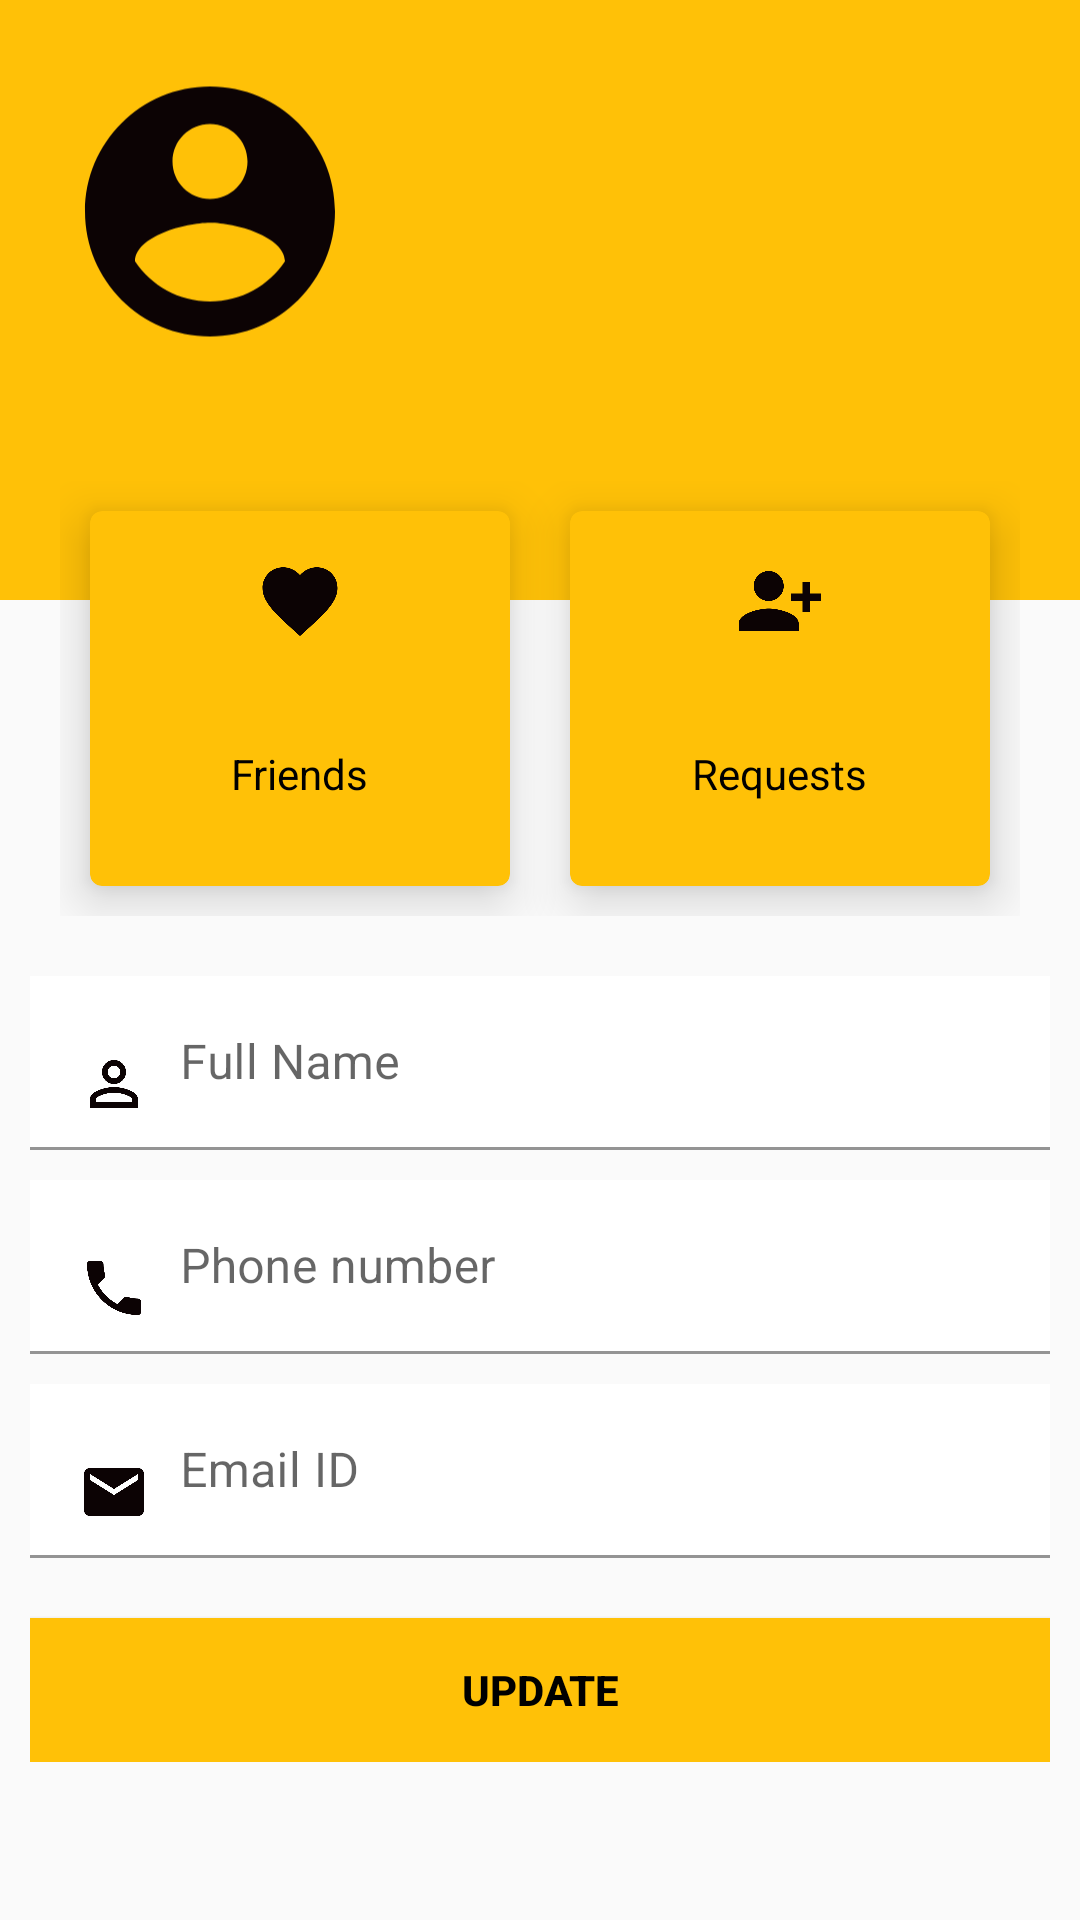

Named icons in this screenshot (1080w x 1920h) and their centers, (x,y):
account circle: (210,211)
favorite: (300,601)
person add: (780,601)
